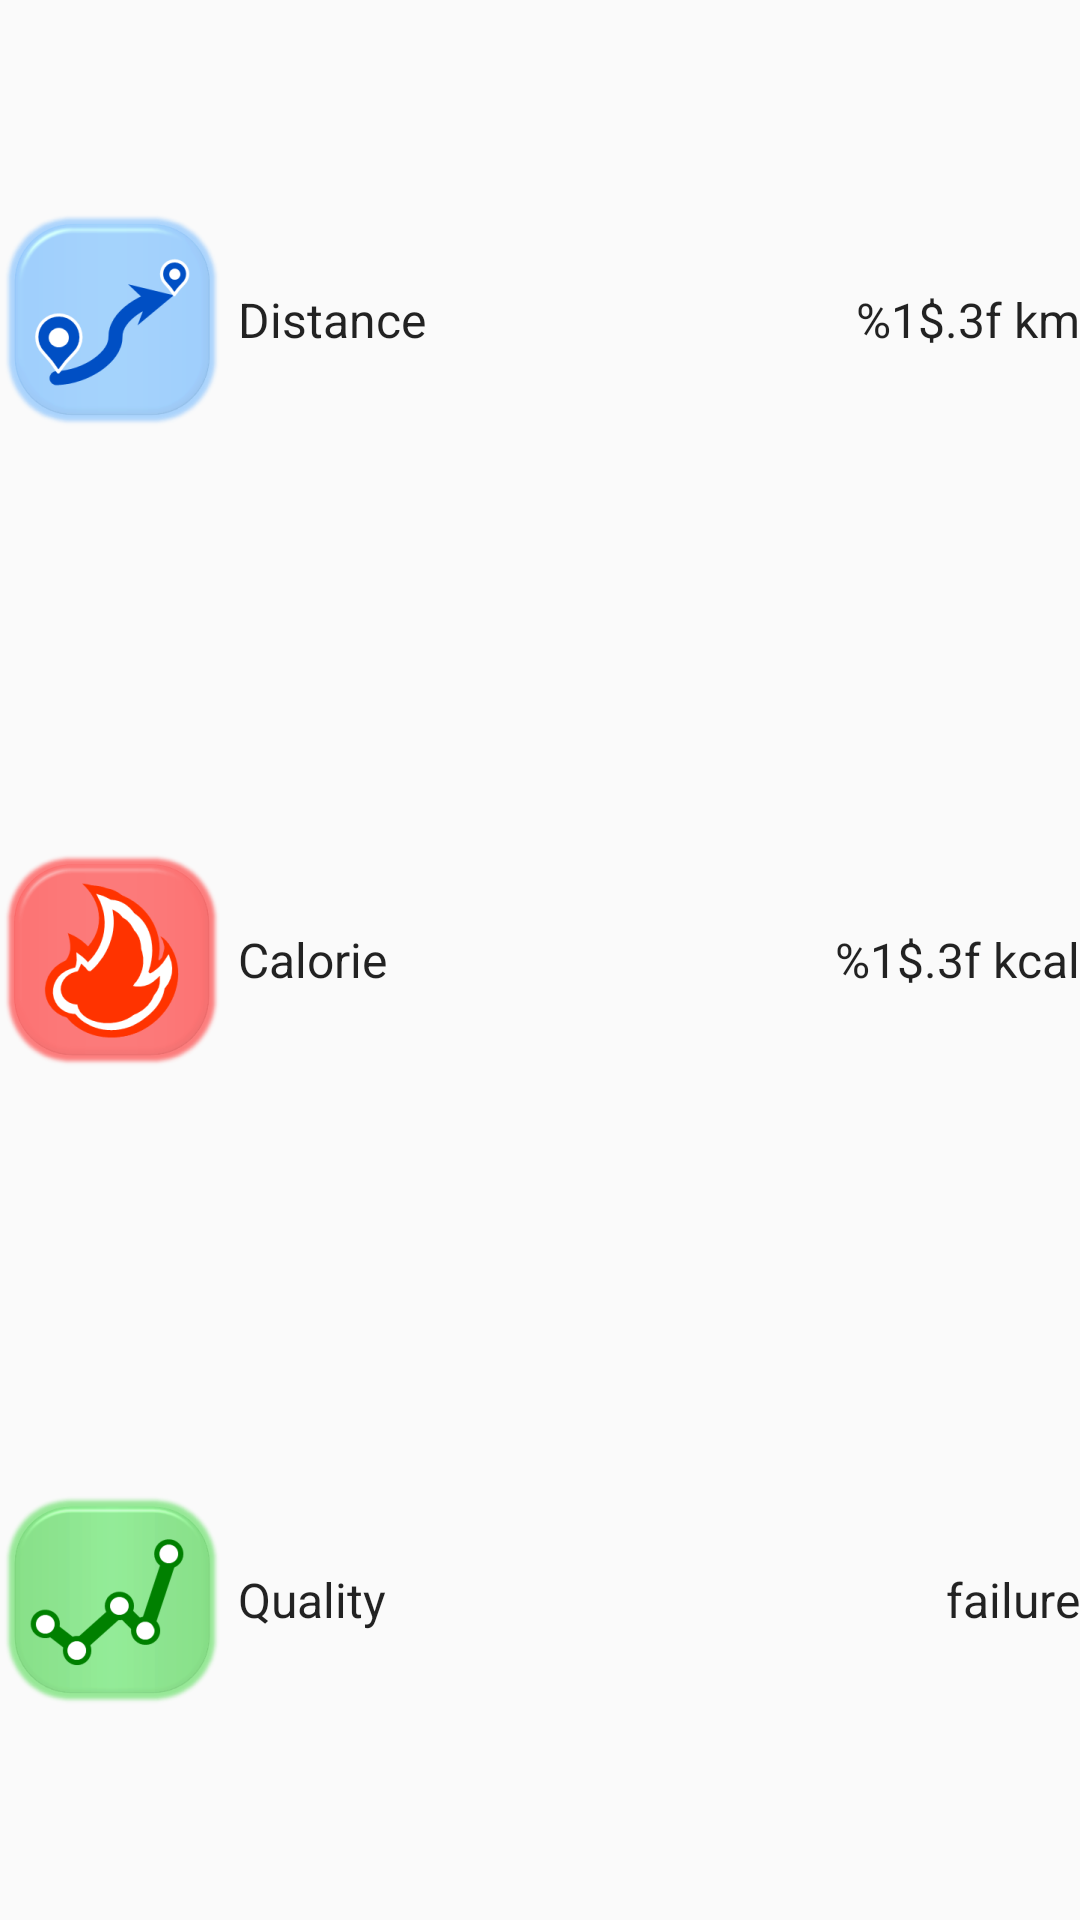

Where icons sit on this 1080 × 1920 app screen, as (x1, y1, x2, y2):
day sport energy: (7, 857, 217, 1063)
